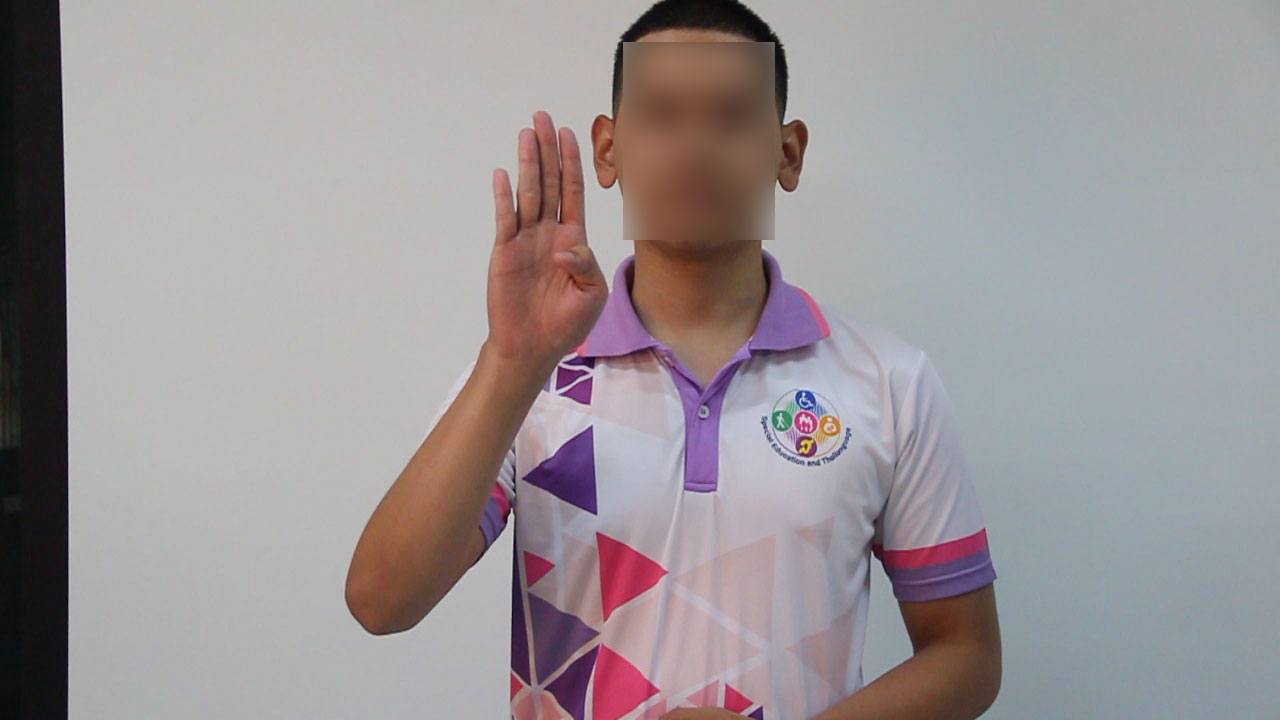bor: (462, 92, 617, 399)
